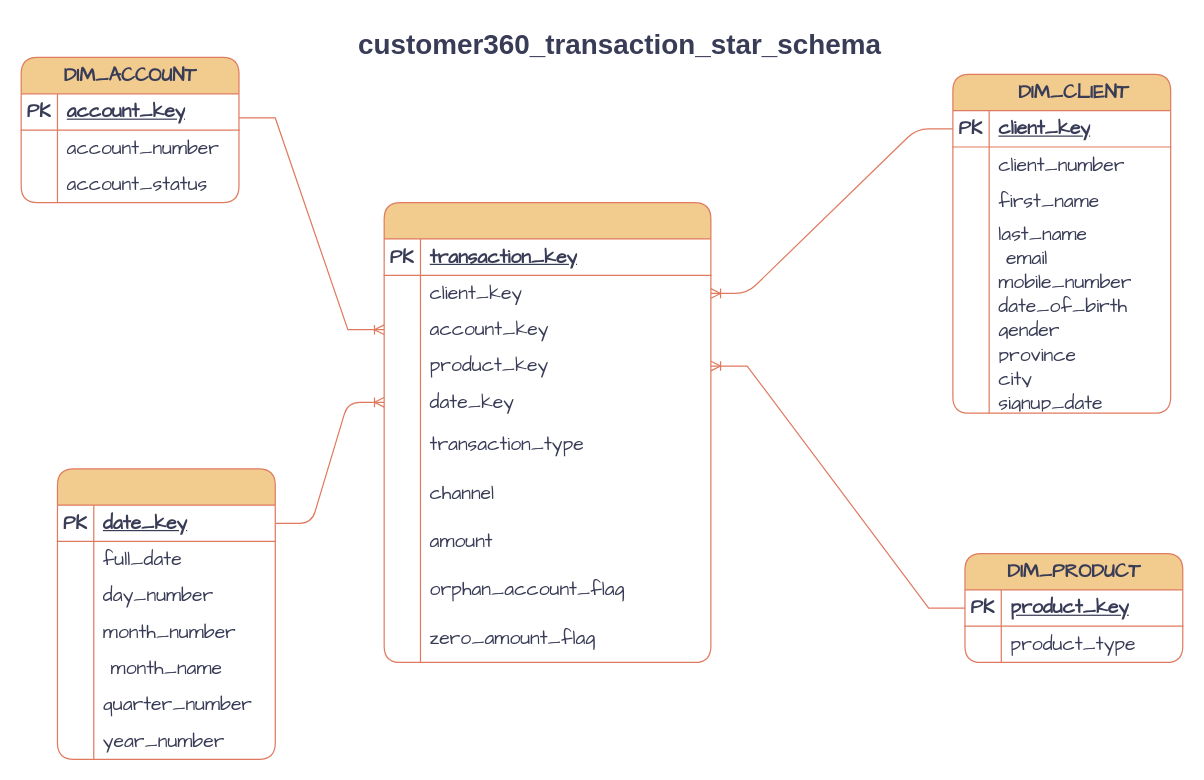
Some shapes in this 1204 by 780 pixel diagram are drawn without their labels. Each missing label, with the box of its shape:
DIM_DATE: (56, 468, 275, 759)
FACT_TRANSACTION_: (383, 201, 711, 662)
